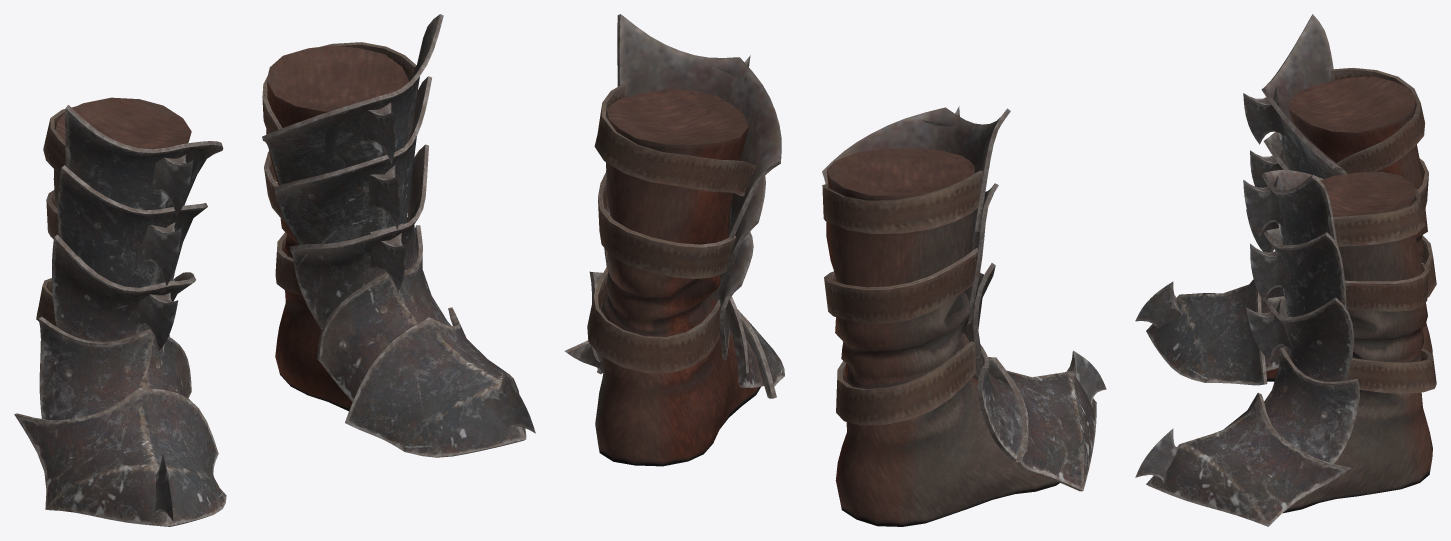
Rendered from sk_dg_uruk_boots_lord_e.fbx.
3 renders of one model, left to right at view 1: azimuth 30°, elevation 25°; view 2: azimuth 150°, elevation 25°; view 3: azimuth 270°, elevation 25°, orthographic. The views are drawn at different scales.
Parts seen in each view (by area): view 1: sk_dg_uruk_boots_lord_e.0, sk_dg_uruk_boots_lord_e.1; view 2: sk_dg_uruk_boots_lord_e.0, sk_dg_uruk_boots_lord_e.1; view 3: sk_dg_uruk_boots_lord_e.0, sk_dg_uruk_boots_lord_e.1.
Part boxes in pixels (x1,y1,x2,y2): sk_dg_uruk_boots_lord_e.0: [14, 14, 535, 526]; sk_dg_uruk_boots_lord_e.1: [36, 42, 416, 326]; sk_dg_uruk_boots_lord_e.0: [564, 14, 1106, 526]; sk_dg_uruk_boots_lord_e.1: [587, 83, 983, 425]; sk_dg_uruk_boots_lord_e.0: [1135, 14, 1432, 526]; sk_dg_uruk_boots_lord_e.1: [1330, 68, 1436, 393].
Size of the model in its own units: 0.6097 by 0.3844 by 0.4681.
Materials: 2 (2 with a texture image).
